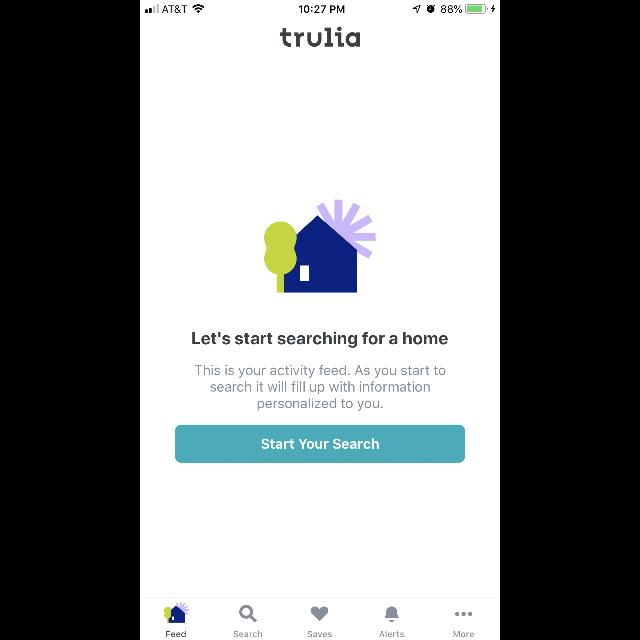icon: (164, 602, 190, 622), (239, 605, 257, 623), (384, 606, 400, 622), (312, 606, 328, 622), (456, 612, 472, 616)
image: (264, 200, 376, 292)
text: (194, 365, 446, 411), (192, 332, 448, 348), (280, 27, 360, 48), (234, 631, 262, 637), (308, 631, 332, 637), (380, 631, 404, 637), (166, 631, 186, 637), (454, 631, 474, 637)
textbutton: (175, 425, 465, 463)
uppertaskbar: (140, 0, 500, 14)
